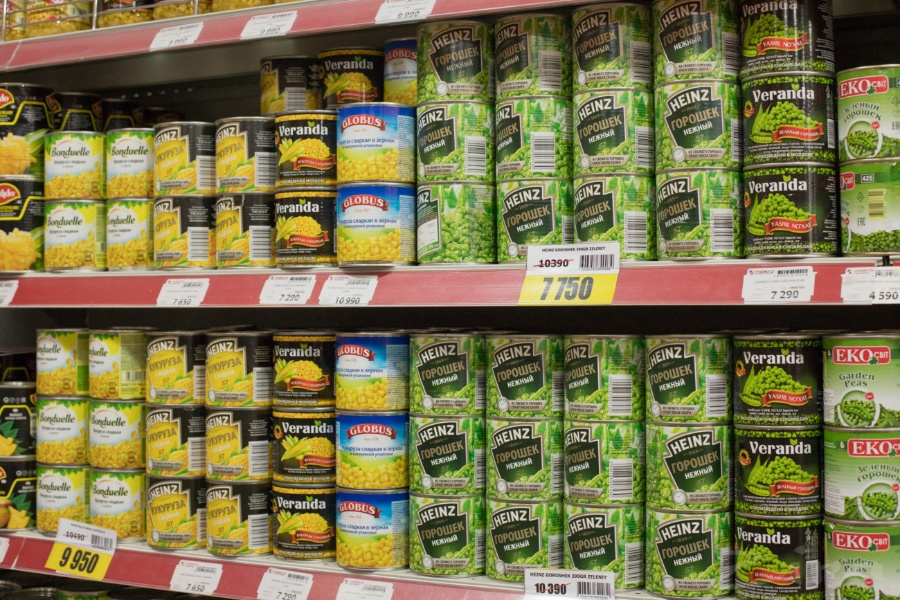peas: (735, 158, 849, 268), (738, 69, 849, 172), (637, 328, 744, 432), (651, 161, 755, 267), (637, 418, 743, 522), (562, 79, 665, 185), (729, 333, 837, 434), (636, 499, 739, 599), (652, 76, 751, 179), (733, 423, 829, 523), (553, 332, 652, 426), (399, 486, 497, 580), (480, 411, 573, 509), (730, 509, 830, 600), (401, 409, 492, 501), (406, 330, 494, 424)
